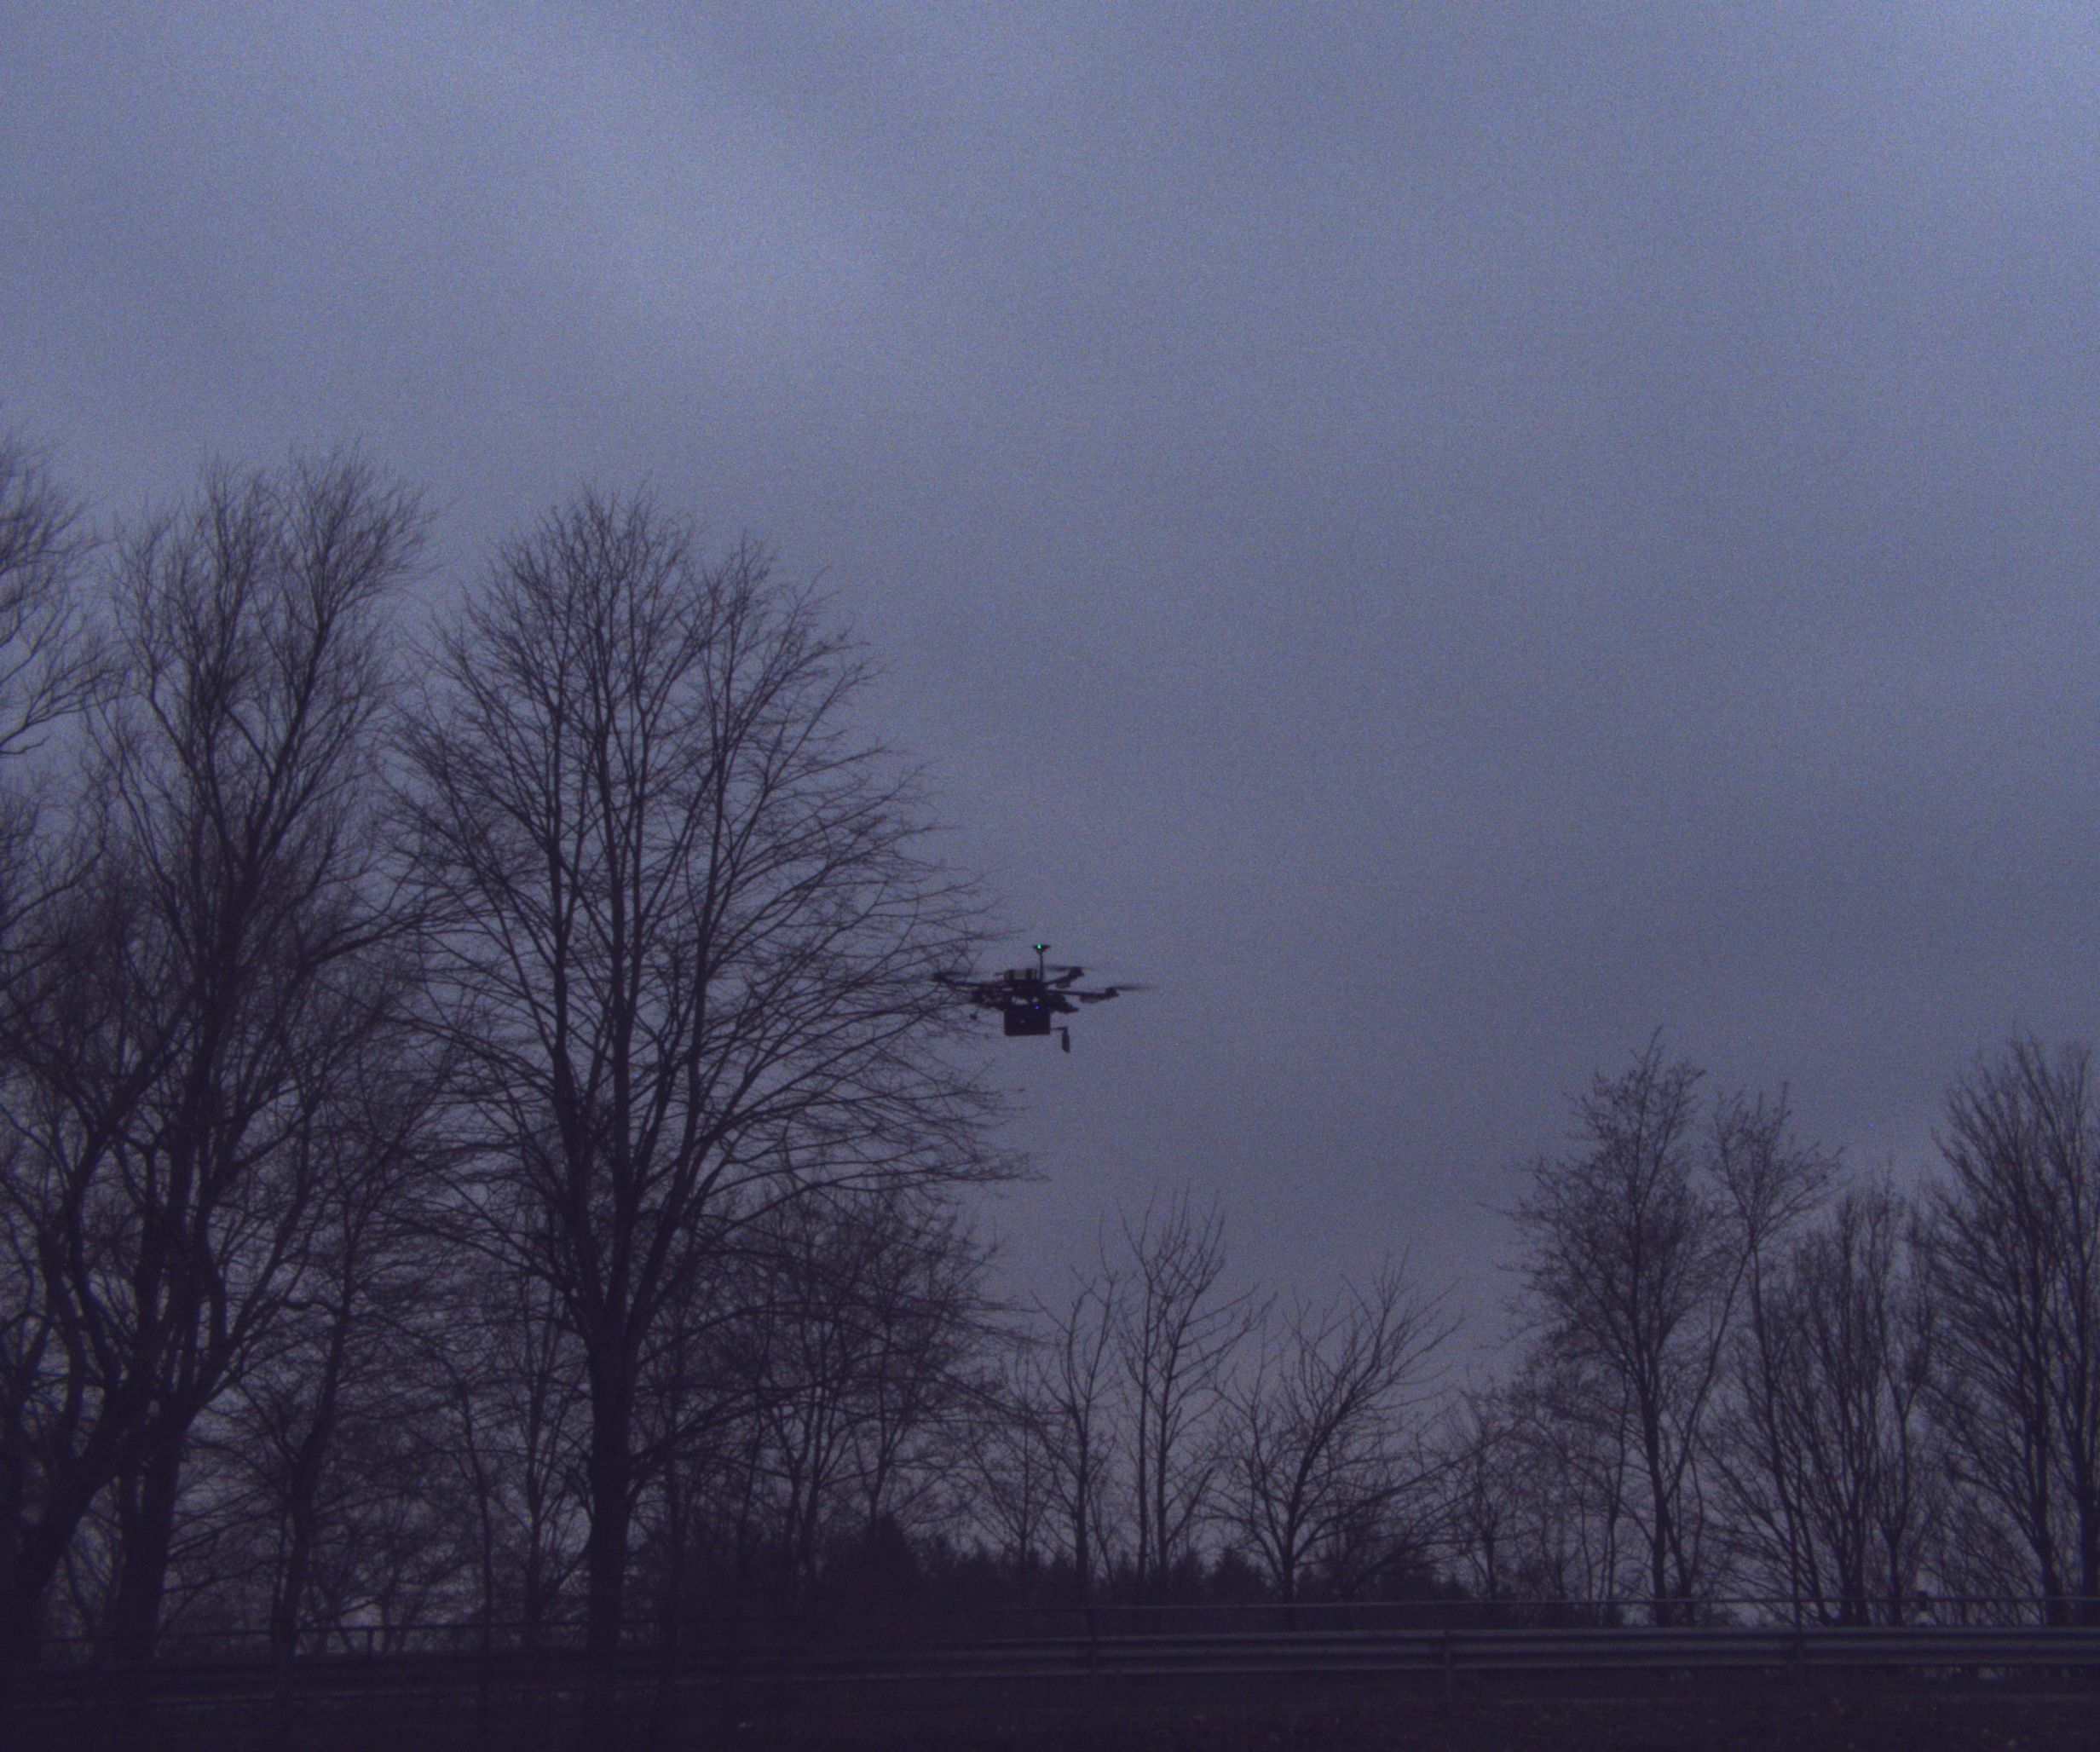Drohne: (902, 936, 1275, 1116)
